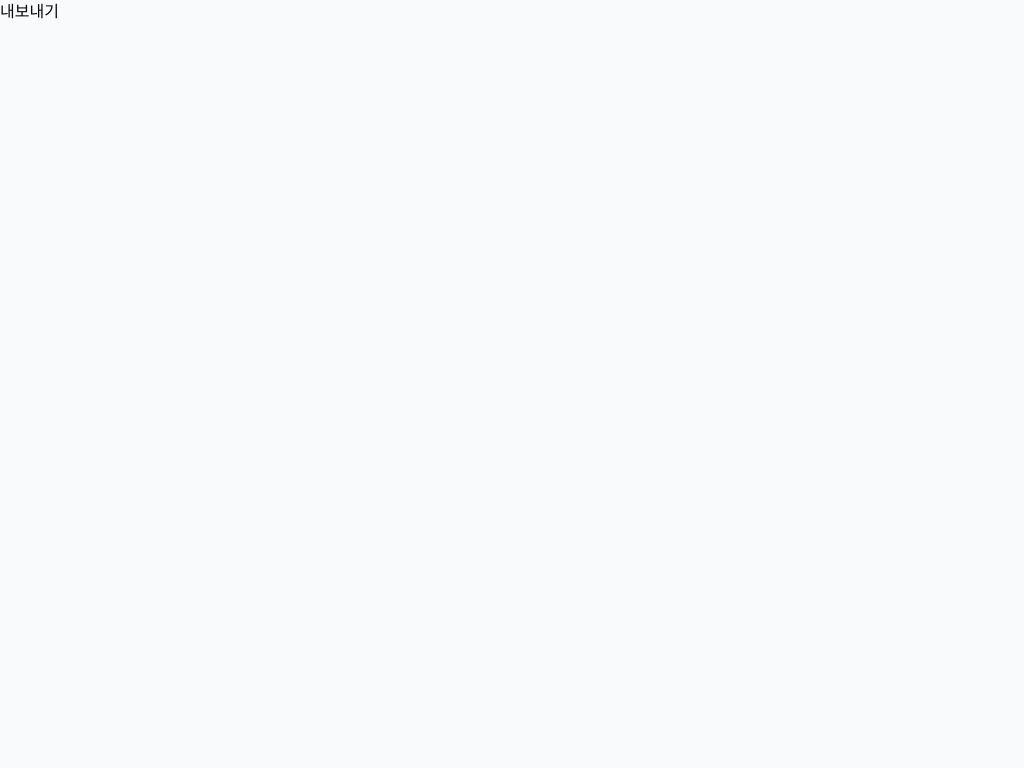
Scenario: [Story 7.1] ExportOptionsModal › [AC1] Export Action › should show progress bar when exporting
This screenshot has width=1024, height=768.
// Open modal
Step 1. Click the button "내보내기" → (29,12), box [0, 0, 59, 24]
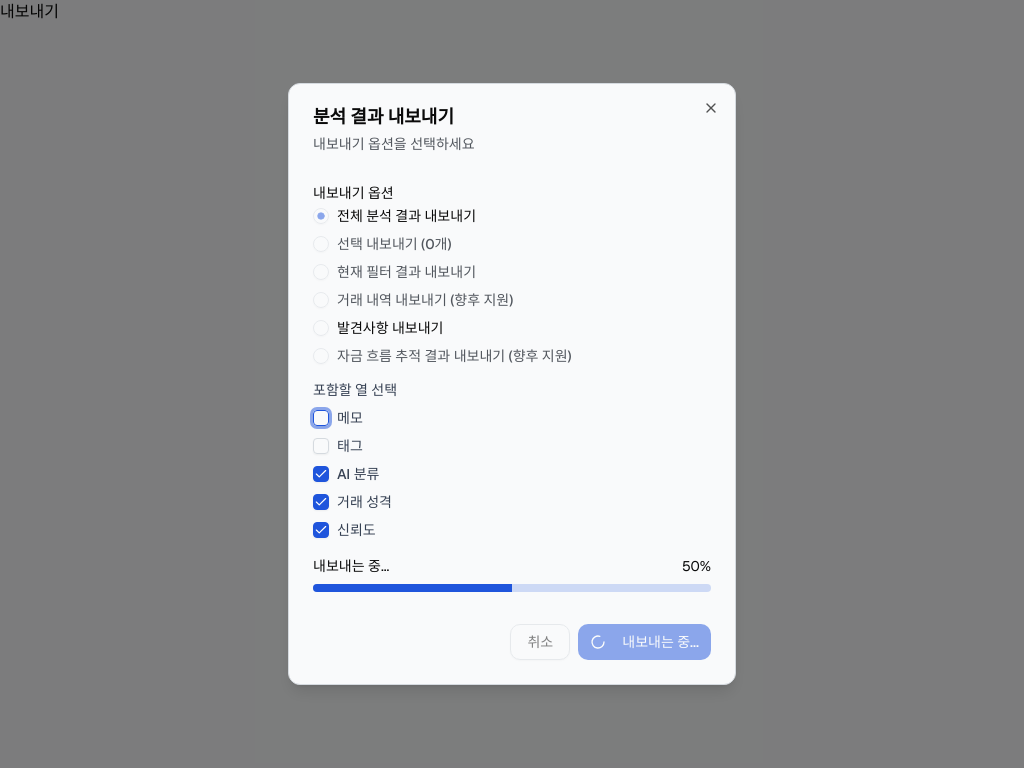
Now the text "50%" is shown, box [682, 556, 711, 576]
Now the progress indicator is shown, box [313, 584, 711, 592]
